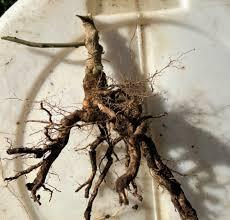root_rot: (24, 18, 200, 220)
